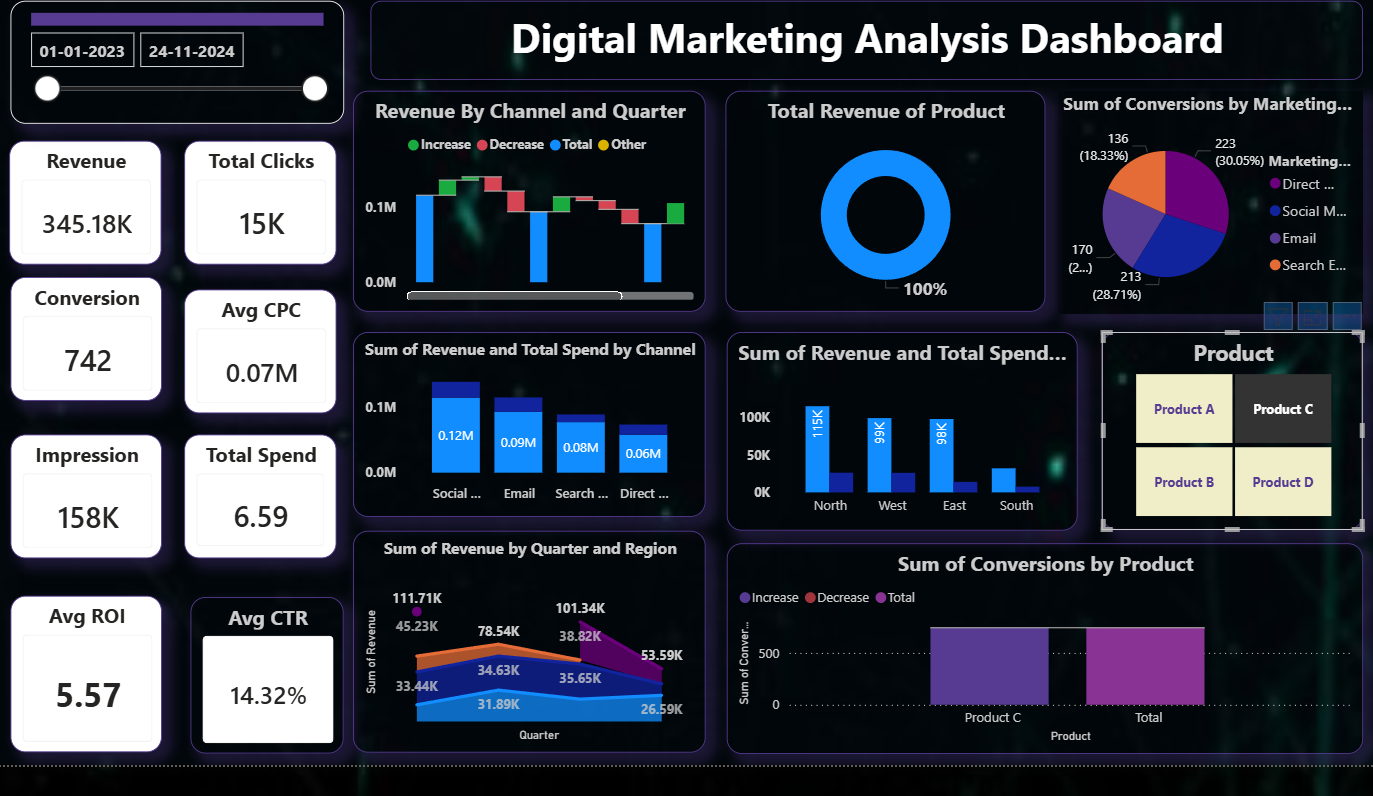

The dashboard page shown, as its layout file describes it:
{"tool":"powerbi","page":{"name":"Market Funnel","canvas":[1280,720],"ordinal":0},"visuals":[{"type":"textbox","box":[347,8.6,923,73.4],"z":0},{"type":"cardVisual","title":"Revenue","fields":{"Data":["Sum(Sheet1.Revenue)"]},"box":[10,138.3,141.7,115],"z":1000},{"type":"cardVisual","title":"Total Clicks","fields":{"Data":["Sum(Sheet1.Clicks)"]},"box":[173.3,138.3,141.7,115],"z":2000},{"type":"cardVisual","title":"Conversion","fields":{"Data":["Sum(Sheet1.Conversions)"]},"box":[11.7,265,141,115],"z":3000},{"type":"cardVisual","title":"Avg CPC","fields":{"Data":["Sum(Sheet1.Spend)"]},"box":[173.3,276.7,141.7,115],"z":4000},{"type":"cardVisual","title":"Impression","fields":{"Data":["Sum(Sheet1.Impressions)"]},"box":[11.7,411.7,141,115],"z":5000},{"type":"cardVisual","title":"Total Spend","fields":{"Data":["Avg(Sheet1.CPC)"]},"box":[173.3,411.7,141.7,115],"z":6000},{"type":"cardVisual","title":"Avg ROI","fields":{"Data":["Avg(Sheet1.ROI)"]},"box":[11.5,561.6,141.1,145.4],"z":7000},{"type":"cardVisual","title":"Avg CTR","fields":{"Data":["Avg(Sheet1.CTR)"]},"box":[178.6,563,142.6,145.4],"z":8000},{"type":"waterfallChart","title":"Revenue By Channel and Quarter","fields":{"Category":["Sheet1.Marketing_Channel"],"Breakdown":["Sheet1.Quarter"],"Y":["Sum(Sheet1.Revenue)"]},"box":[329.8,92.2,328.3,205.9],"z":9000},{"type":"waterfallChart","fields":{"Category":["Sheet1.Region","Sheet1.Product"],"Y":["Sum(Market_Analysis_Task3.Conversions)"]},"box":[678.2,512.6,591.8,195.8],"z":10000},{"type":"donutChart","title":"Total Revenue of Product","fields":{"Category":["Sheet1.Product"],"Y":["Sum(Sheet1.Spend)"]},"box":[676.7,91.9,297.7,205.8],"z":11000},{"type":"columnChart","fields":{"Category":["Sheet1.Marketing_Channel"],"Y":["Sum(Sheet1.Revenue)","Sum(Sheet1.Spend)"]},"box":[330,316.7,328.3,171.7],"z":12000},{"type":"stackedAreaChart","fields":{"Category":["Sheet1.Date.Variation.Date Hierarchy.Quarter"],"Y":["Sum(Sheet1.Revenue)"],"Series":["Sheet1.Region"]},"box":[330,501.7,328.3,206.7],"z":13000},{"type":"clusteredColumnChart","fields":{"Y":["Sum(Sheet1.Revenue)","Sum(Sheet1.Spend)"],"Category":["Sheet1.Region"]},"box":[678.3,316.7,326.7,185],"z":14000},{"type":"slicer","title":"Product","fields":{"Values":["Sheet1.Product"]},"box":[1026.7,316.8,243.4,184.3],"z":15000},{"type":"pieChart","fields":{"Y":["Sum(Market_Analysis_Task3.Conversions)"],"Category":["Market_Analysis_Task3.Marketing_Channel"]},"box":[986,91.9,283.7,208.1],"z":16000},{"type":"slicer","title":"Date","fields":{"Values":["Sheet1.Date"]},"box":[11.7,8.3,310,114],"z":17000}]}

Visuals, with their boxes in screenshot pixels (x1, y1, x2, y2), scaled from the page's 1280x720 canvas onto the 1373x796 screenshot:
textbox: (left=372, top=10, right=1362, bottom=91)
"Revenue" cardVisual: (left=11, top=153, right=163, bottom=280)
"Total Clicks" cardVisual: (left=186, top=153, right=338, bottom=280)
"Conversion" cardVisual: (left=13, top=293, right=164, bottom=420)
"Avg CPC" cardVisual: (left=186, top=306, right=338, bottom=433)
"Impression" cardVisual: (left=13, top=455, right=164, bottom=582)
"Total Spend" cardVisual: (left=186, top=455, right=338, bottom=582)
"Avg ROI" cardVisual: (left=12, top=621, right=164, bottom=782)
"Avg CTR" cardVisual: (left=192, top=622, right=345, bottom=783)
"Revenue By Channel and Quarter" waterfallChart: (left=354, top=102, right=706, bottom=330)
waterfallChart - Sheet1.Region x Sheet1.Product: (left=727, top=567, right=1362, bottom=783)
"Total Revenue of Product" donutChart: (left=726, top=102, right=1045, bottom=329)
columnChart - Sheet1.Marketing_Channel x Sum(Sheet1.Revenue): (left=354, top=350, right=706, bottom=540)
stackedAreaChart - Sheet1.Date.Variation.Date Hierarchy.Quarter x Sum(Sheet1.Revenue): (left=354, top=555, right=706, bottom=783)
clusteredColumnChart - Sum(Sheet1.Revenue) x Sum(Sheet1.Spend): (left=728, top=350, right=1078, bottom=555)
"Product" slicer: (left=1101, top=350, right=1362, bottom=554)
pieChart - Sum(Market_Analysis_Task3.Conversions) x Market_Analysis_Task3.Marketing_Channel: (left=1058, top=102, right=1362, bottom=332)
"Date" slicer: (left=13, top=9, right=345, bottom=135)
